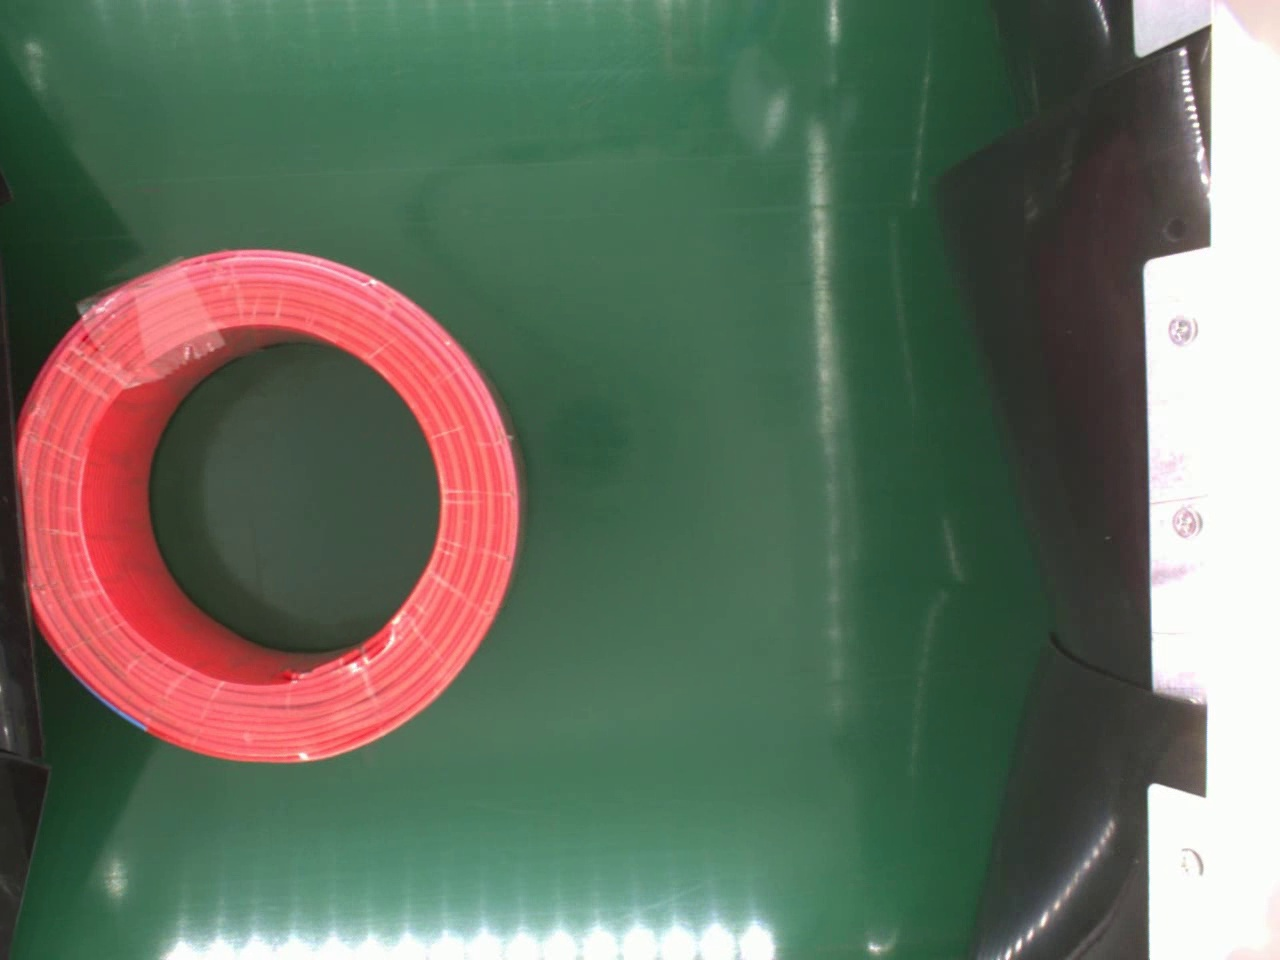red: (21, 243, 530, 768)
